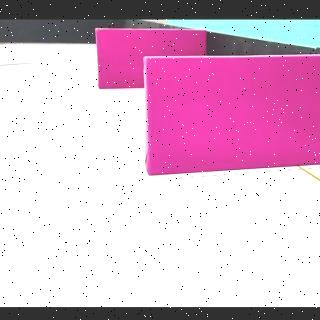xparking: (148, 58, 319, 176), (98, 30, 144, 90)
